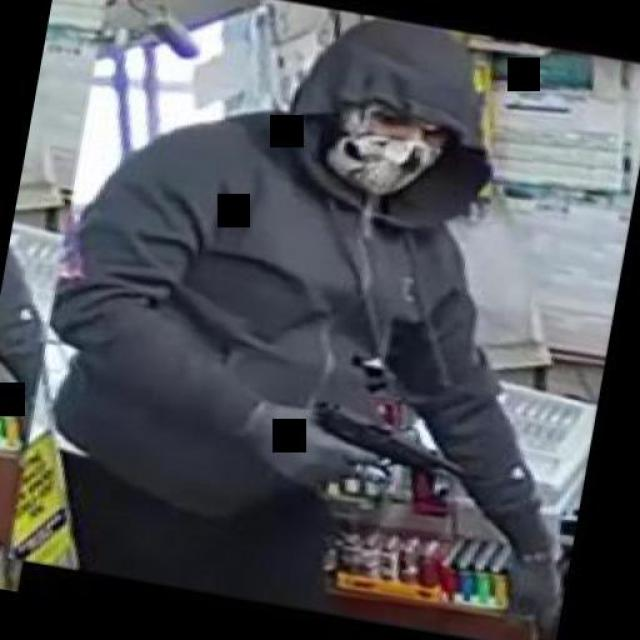gun: (284, 391, 482, 519)
